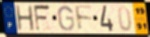0: (117, 5, 133, 33)
4: (100, 5, 115, 33)
F: (74, 5, 94, 33), (33, 4, 52, 33)
G: (57, 5, 76, 32)
H: (15, 5, 36, 32)
